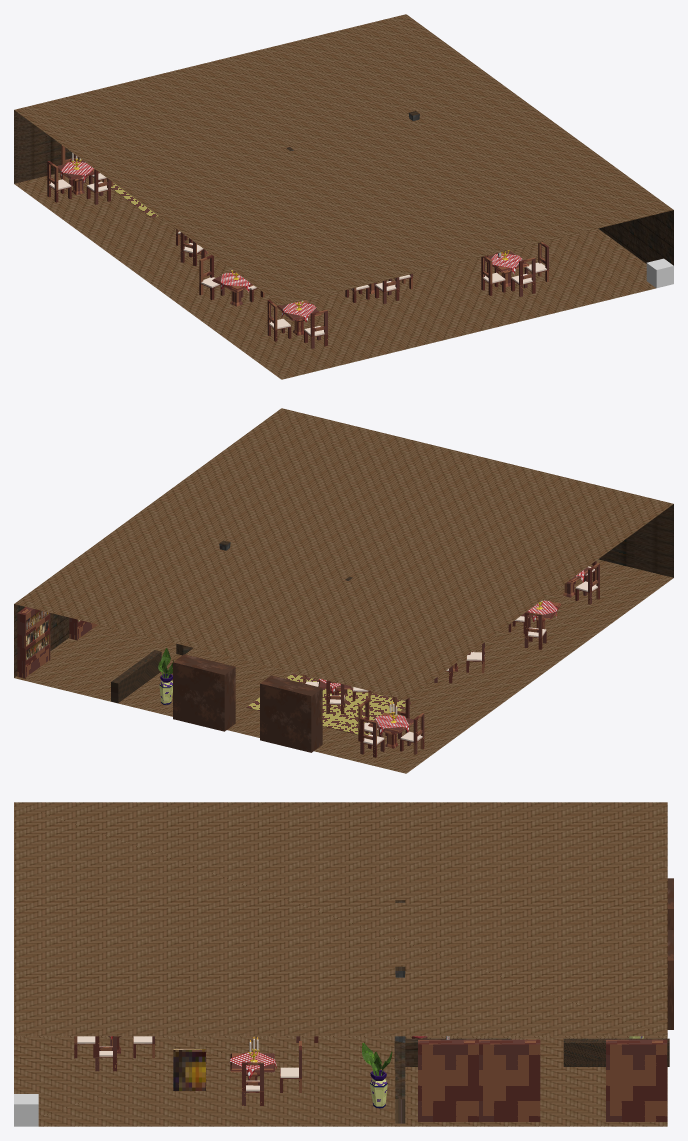
File: kopija sobice za svaku slucaj.glb
3 renders of one model, top to bottom at view 1: azimuth 30°, elevation 25°; view 2: azimuth 150°, elevation 25°; view 3: azimuth 270°, elevation 25°, orthographic. The views are drawn at different scales.
Parts seen in each view (by area): view 1: Cube.001, Cylinder.007, Cylinder.009, Cylinder.010, Cube, Cube.007; view 2: Cube.001, Cube.004, Cube.021, Cylinder.007, Plane.002, Cube.020, Cylinder.010, Cylinder.009, Cylinder.003, Plane.003; view 3: Cube.001, Cube.019, Cube.020, Cube.018, Cylinder.002, Cube.028, Plane.001, Cube, Cube.004.
Boxes of the visible parts, box(x1,y1,x2,y2) form: Cube.001: box(14, 14, 673, 379); Cylinder.007: box(47, 145, 113, 204); Cylinder.009: box(267, 299, 327, 348); Cylinder.010: box(199, 255, 264, 306); Cube: box(646, 258, 673, 288); Cube.007: box(511, 257, 535, 296); Cube.001: box(14, 408, 673, 773); Cube.004: box(173, 654, 235, 731); Cube.021: box(260, 675, 322, 752); Cylinder.007: box(358, 696, 424, 757); Plane.002: box(246, 673, 411, 735); Cube.020: box(17, 607, 50, 678); Cylinder.010: box(508, 600, 561, 649); Cylinder.009: box(563, 561, 599, 604); Cylinder.003: box(303, 674, 371, 714); Plane.003: box(158, 648, 173, 704); Cube.001: box(14, 802, 669, 1126); Cube.019: box(479, 1039, 540, 1121); Cube.020: box(606, 1039, 667, 1121); Cube.018: box(418, 1039, 478, 1121); Cylinder.002: box(229, 1037, 301, 1105); Cube.028: box(173, 1049, 205, 1090); Plane.001: box(362, 1043, 392, 1108); Cube: box(14, 1094, 38, 1126); Cube.004: box(667, 930, 673, 1029).
Size of what is drawn, in the model's own units: 45.05 by 8.82 by 53.74.
Materials: 25 (19 with a texture image).
